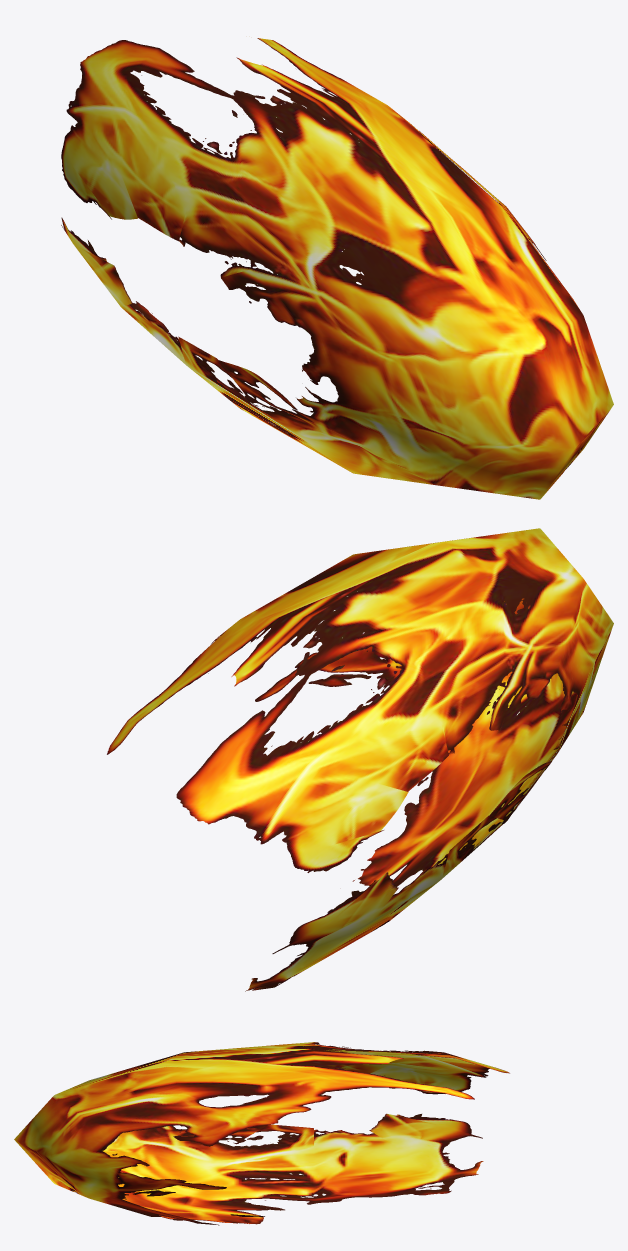
The model's file is FireBall.fbx.
The picture shows the model from 3 angles, top to bottom: view 1: azimuth 30°, elevation 25°; view 2: azimuth 150°, elevation 25°; view 3: azimuth 270°, elevation 25°; orthographic projection. The views are drawn at different scales.
Parts seen in each view (by area): view 1: SM_FireBall; view 2: SM_FireBall; view 3: SM_FireBall.
Boxes of the visible parts, <box> form: SM_FireBall: <box>61,38,613,499</box>; SM_FireBall: <box>107,528,613,991</box>; SM_FireBall: <box>14,1042,509,1225</box>.
Size of the model in its own units: 0.3261 by 0.3261 by 1.
